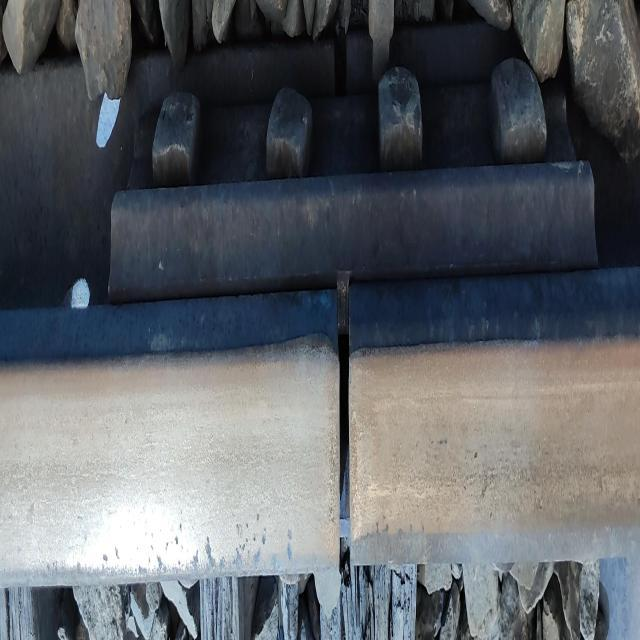Good Joint: (106, 31, 595, 286)
